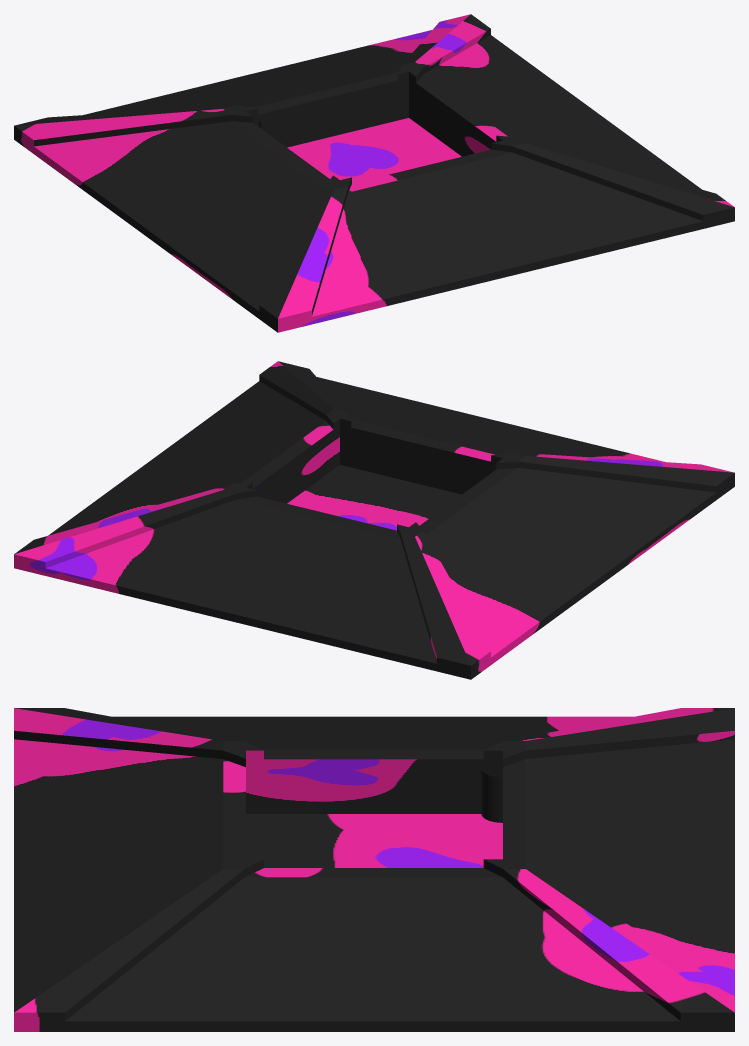
File: BoxPit.fbx
3 renders of one model, top to bottom at view 1: azimuth 30°, elevation 25°; view 2: azimuth 150°, elevation 25°; view 3: azimuth 270°, elevation 25°, orthographic. The views are drawn at different scales.
Visible parts, largest first — view 1: Cube.001; view 2: Cube.001; view 3: Cube.001.
Boxes of the visible parts, box(x1,y1,x2,y2) form: Cube.001: box(14, 14, 734, 332); Cube.001: box(14, 361, 734, 679); Cube.001: box(14, 708, 734, 1031).
Size of the model in its own units: 1271 by 145 by 1271.
1 material, 1 textured.
